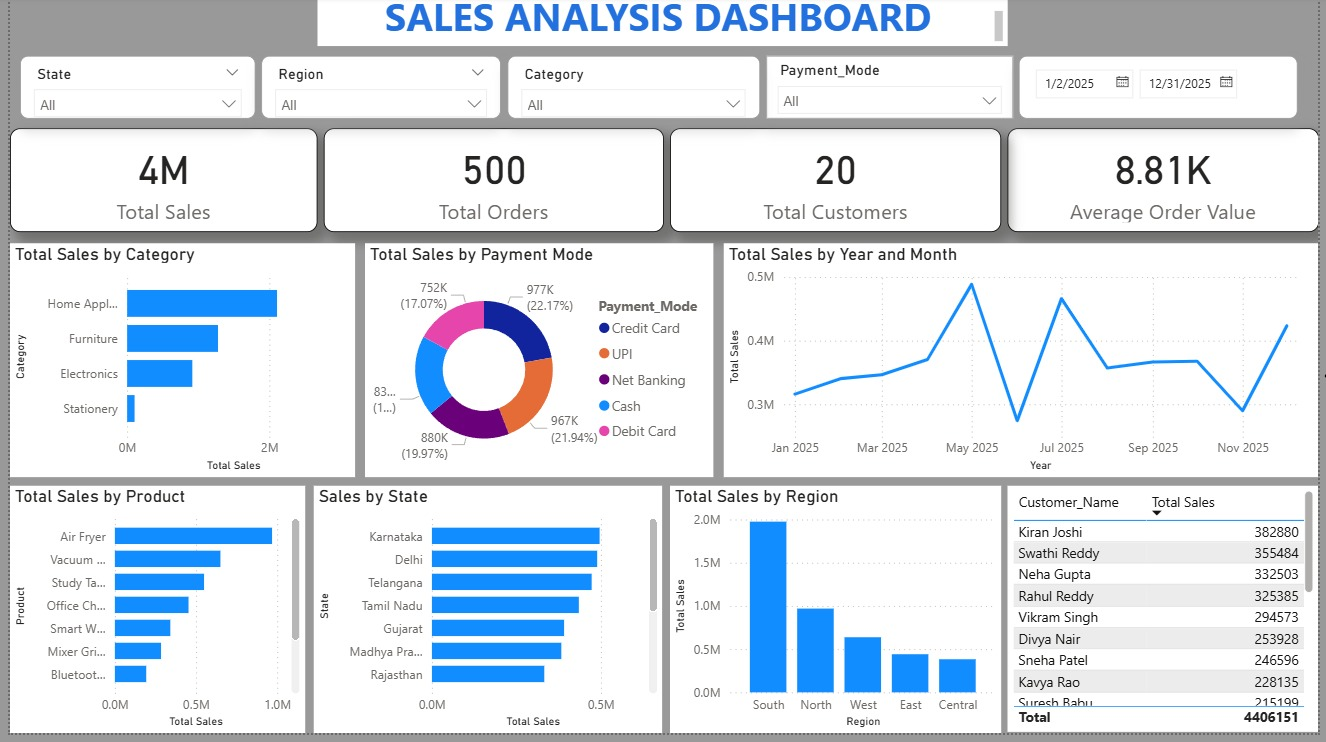

This screenshot's page, from the dashboard's own definition file:
{"tool":"powerbi","page":{"name":"Page 1","canvas":[1280,720],"ordinal":0},"visuals":[{"type":"card","fields":{"Values":["sales_data.Total Sales"]},"box":[0,128.4,300.8,101.5],"z":0},{"type":"textbox","box":[300.5,0,675.1,48],"z":2000},{"type":"card","fields":{"Values":["sales_data.Average Order Value"]},"box":[975.8,128.4,304.5,101.5],"z":3000},{"type":"card","fields":{"Values":["sales_data.Total Orders"]},"box":[306.9,128.4,332.6,101.5],"z":4000},{"type":"card","fields":{"Values":["sales_data.Total Customers"]},"box":[645.7,128.4,324.1,101.5],"z":5000},{"type":"clusteredBarChart","fields":{"Category":["sales_data.Category"],"Y":["sales_data.Total Sales"]},"box":[0,240.9,337.5,228.7],"z":6000},{"type":"donutChart","title":"Total Sales by Payment Mode","fields":{"Category":["sales_data.Payment_Mode"],"Y":["sales_data.Total Sales"]},"box":[347.3,240.9,341.2,228.7],"z":7000},{"type":"lineChart","fields":{"Y":["sales_data.Total Sales"],"Category":["sales_data.Order_Date.Variation.Date Hierarchy.Year","sales_data.Order_Date.Variation.Date Hierarchy.Month"]},"box":[698.2,240.9,582.1,228.7],"z":8000},{"type":"clusteredColumnChart","fields":{"Category":["sales_data.Region"],"Y":["sales_data.Total Sales"]},"box":[645.7,478.1,324.1,242.1],"z":9000},{"type":"barChart","fields":{"Category":["sales_data.Product"],"Y":["sales_data.Total Sales"]},"box":[0,478.1,288.6,242.1],"z":10000},{"type":"tableEx","fields":{"Values":["sales_data.Customer_Name","sales_data.Total Sales"]},"box":[975.8,478.1,304.5,240.9],"z":11000},{"type":"slicer","fields":{"Values":["sales_data.State"]},"box":[9.6,57.6,230.5,61.7],"z":13000},{"type":"slicer","fields":{"Values":["sales_data.Region"]},"box":[246,57.6,234.6,61.7],"z":14000},{"type":"slicer","fields":{"Values":["sales_data.Payment_Mode"]},"box":[739.3,57.6,241.5,61.7],"z":15000},{"type":"slicer","fields":{"Values":["sales_data.Category"]},"box":[486.5,57.6,247,61.7],"z":16000},{"type":"slicer","fields":{"Values":["sales_data.Order_Date"]},"box":[986.6,57.6,273.1,61.7],"z":17000},{"type":"clusteredBarChart","title":"Sales by State","fields":{"Category":["sales_data.State"],"Y":["sales_data.Total Sales"]},"box":[297.1,478.1,341.2,242.1],"z":17001}]}

Visuals, with their boxes in screenshot pixels (x1, y1, x2, y2), scaled from the page's 1280x720 canvas onto the 1326x742 screenshot:
card - sales_data.Total Sales: box(0, 132, 312, 237)
textbox: box(311, 0, 1011, 49)
card - sales_data.Average Order Value: box(1011, 132, 1325, 237)
card - sales_data.Total Orders: box(318, 132, 662, 237)
card - sales_data.Total Customers: box(669, 132, 1005, 237)
clusteredBarChart - sales_data.Category x sales_data.Total Sales: box(0, 248, 350, 484)
"Total Sales by Payment Mode" donutChart: box(360, 248, 713, 484)
lineChart - sales_data.Total Sales x sales_data.Order_Date.Variation.Date Hierarchy.Year: box(723, 248, 1325, 484)
clusteredColumnChart - sales_data.Region x sales_data.Total Sales: box(669, 493, 1005, 741)
barChart - sales_data.Product x sales_data.Total Sales: box(0, 493, 299, 741)
tableEx - sales_data.Customer_Name x sales_data.Total Sales: box(1011, 493, 1325, 741)
slicer - sales_data.State: box(10, 59, 249, 123)
slicer - sales_data.Region: box(255, 59, 498, 123)
slicer - sales_data.Payment_Mode: box(766, 59, 1016, 123)
slicer - sales_data.Category: box(504, 59, 760, 123)
slicer - sales_data.Order_Date: box(1022, 59, 1305, 123)
"Sales by State" clusteredBarChart: box(308, 493, 661, 741)
